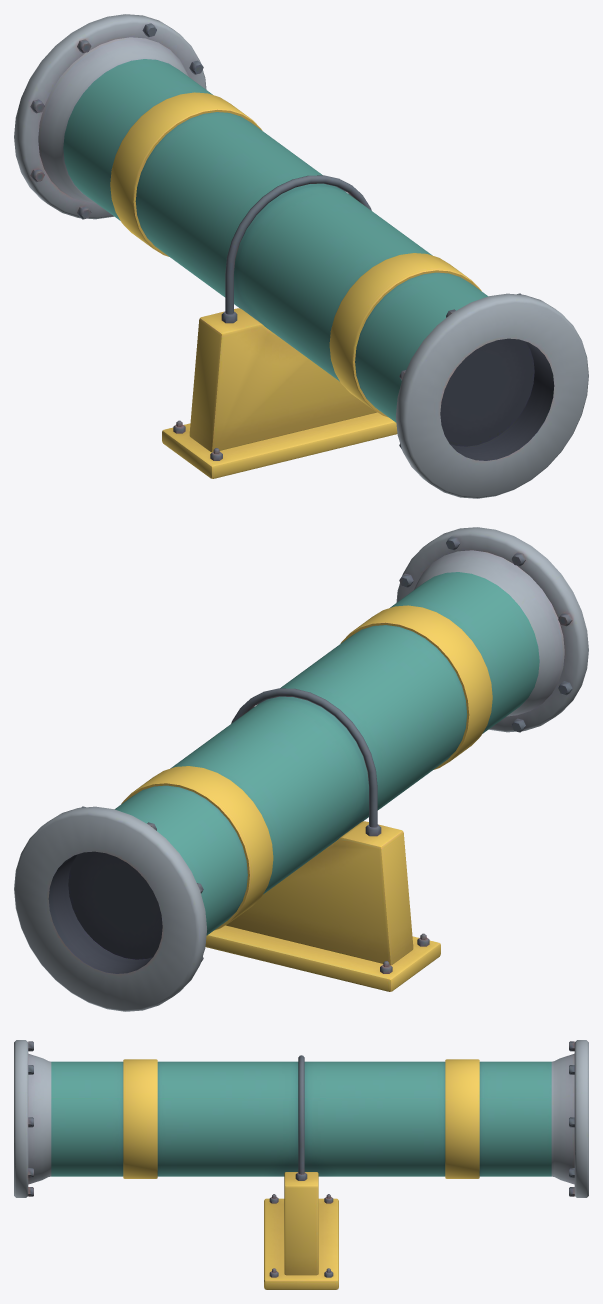
The model's file is shell.glb.
The picture shows the model from 3 angles, top to bottom: view 1: azimuth 30°, elevation 25°; view 2: azimuth 150°, elevation 25°; view 3: azimuth 270°, elevation 25°; orthographic projection. The views are drawn at different scales.
Parts seen in each view (by area): view 1: pipe-segment_body; view 2: pipe-segment_body; view 3: pipe-segment_body.
Part boxes in pixels (x1,y1,x2,y2): pipe-segment_body: (14,14,588,498); pipe-segment_body: (14,527,588,1011); pipe-segment_body: (14,1040,588,1289).
Bounding box in the file's own units: 0.68 × 0.775 × 2.
Materials: 1 (1 with a texture image).
